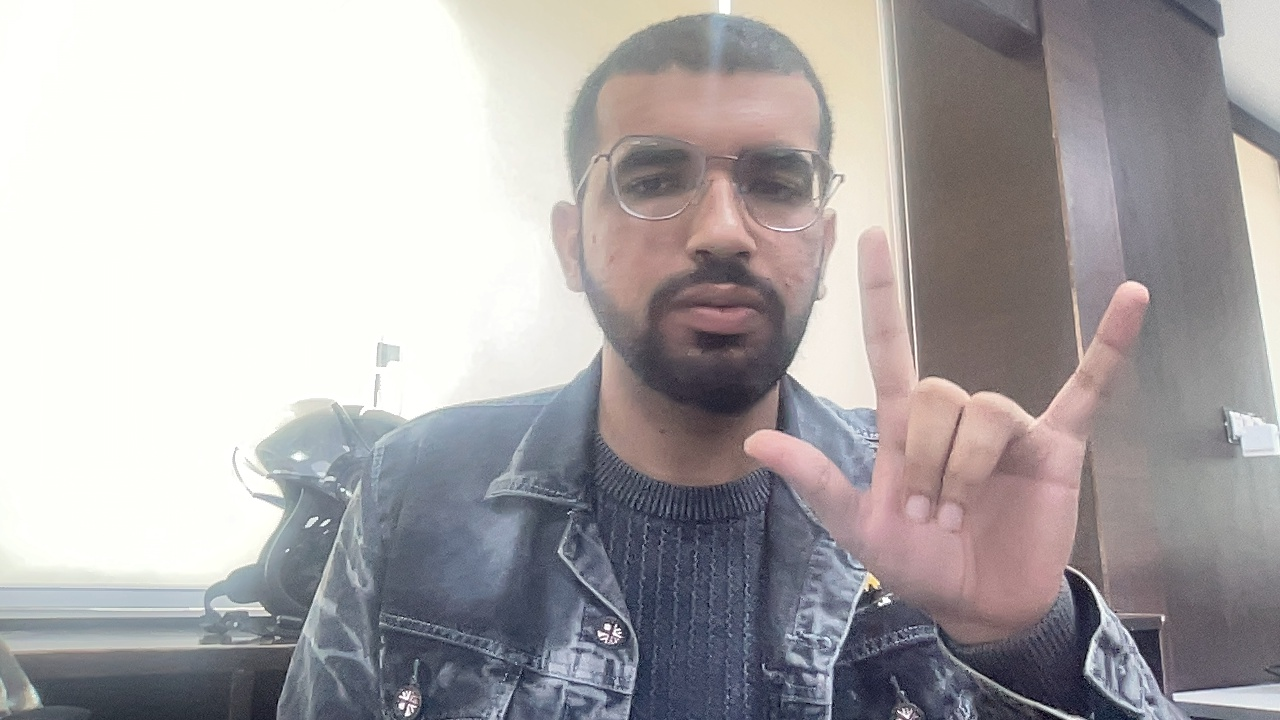I Love You: (771, 198, 1162, 640)
